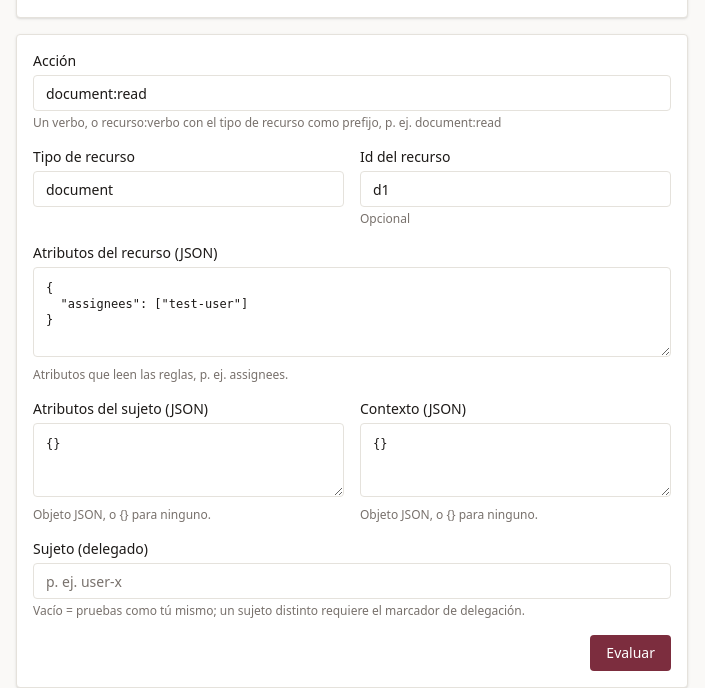
a 401 from the engine renders as a deployment fault › on a write — the OIDC layer's, with no body
(page scrolled)
Click the button "Evaluar".
click(631, 653)  # box [590,635,671,671]
(page scrolled)
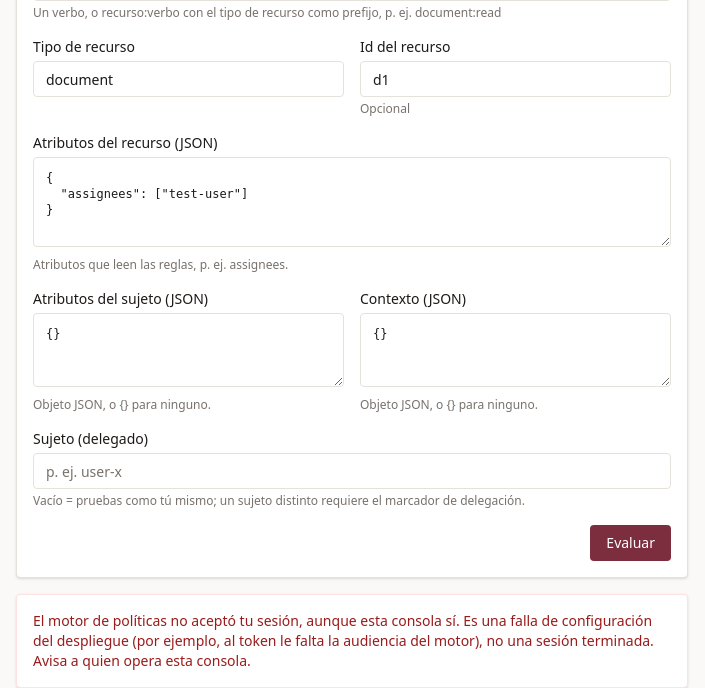
Expected: the text "El motor de políticas no aceptó tu sesión, aunque esta consola sí. Es una falla de configuración del despliegue (por eje" is shown, [33,611,654,670]
